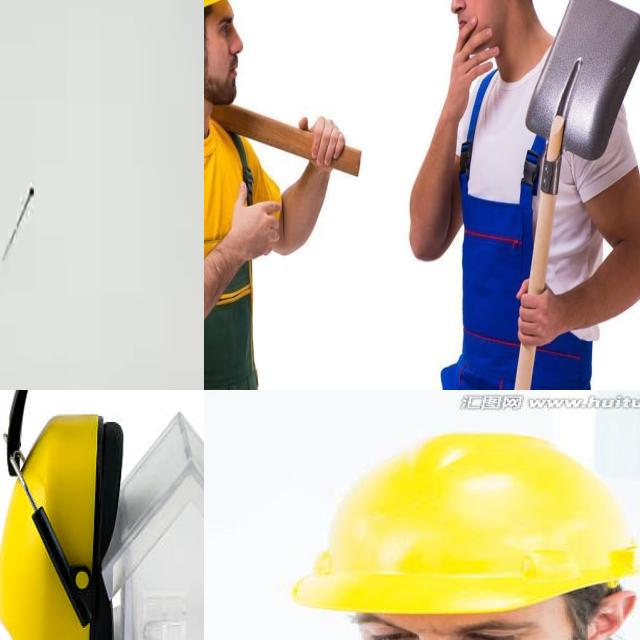Ear-protection: (0, 390, 204, 640)
No_Ear-Protection: (443, 0, 543, 56), (204, 0, 243, 111), (576, 590, 637, 640)
No_Glasses: (356, 610, 550, 640)
head_helmet: (293, 434, 638, 614)
